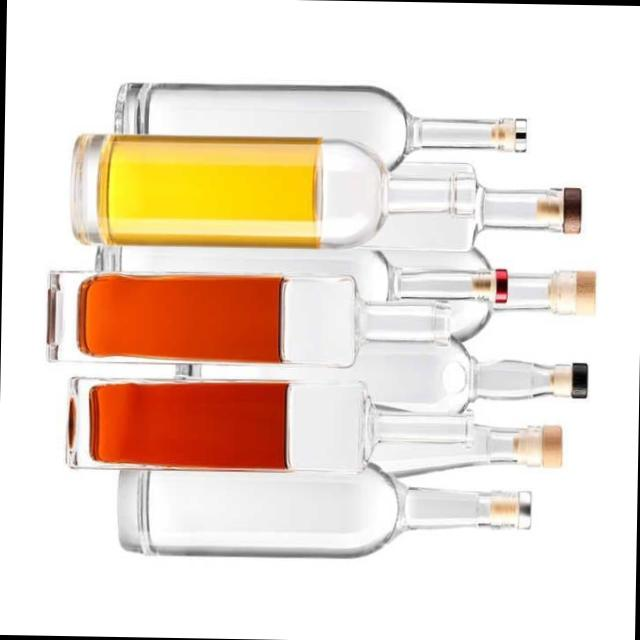glass: (27, 57, 605, 588), (36, 108, 495, 267), (104, 442, 542, 569), (29, 251, 457, 380), (48, 366, 475, 492)
